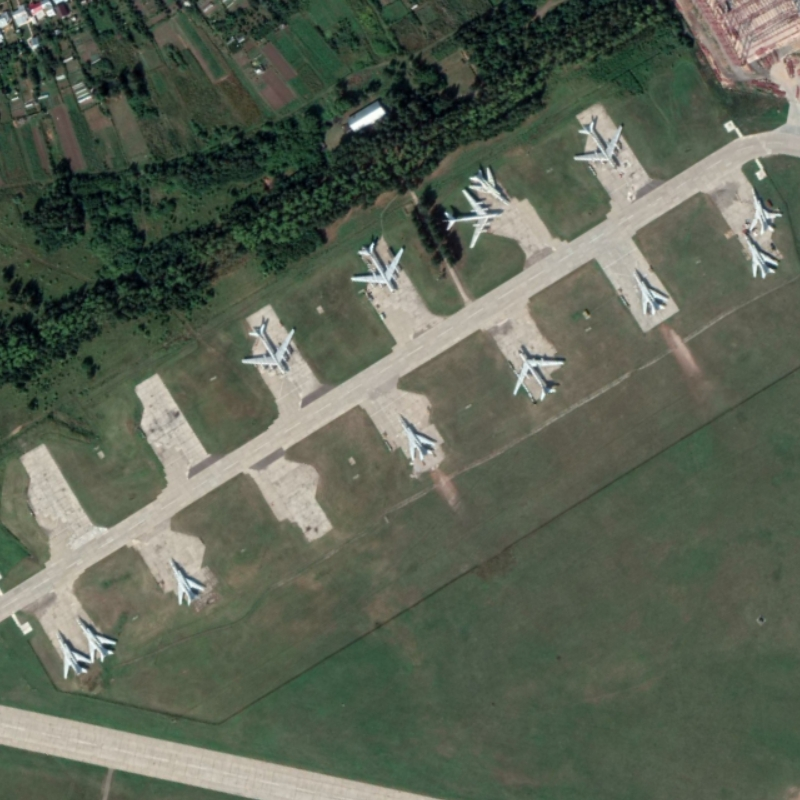A12: (74, 615, 118, 664), (395, 412, 437, 462), (630, 266, 670, 317), (166, 556, 206, 607), (54, 628, 93, 680), (742, 231, 780, 280), (466, 166, 512, 206), (748, 187, 784, 236)
A17: (440, 188, 501, 250), (240, 321, 297, 376), (511, 347, 566, 402), (349, 240, 405, 294), (572, 120, 625, 169)
